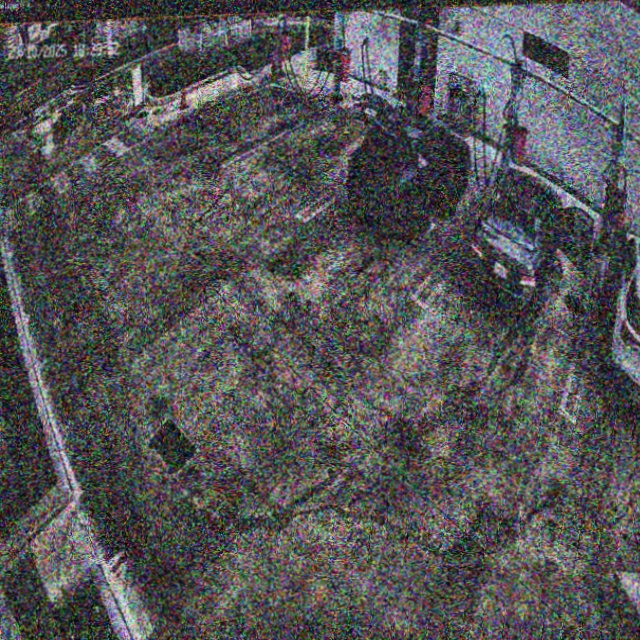Car: (467, 162, 594, 320), (346, 94, 474, 240)
